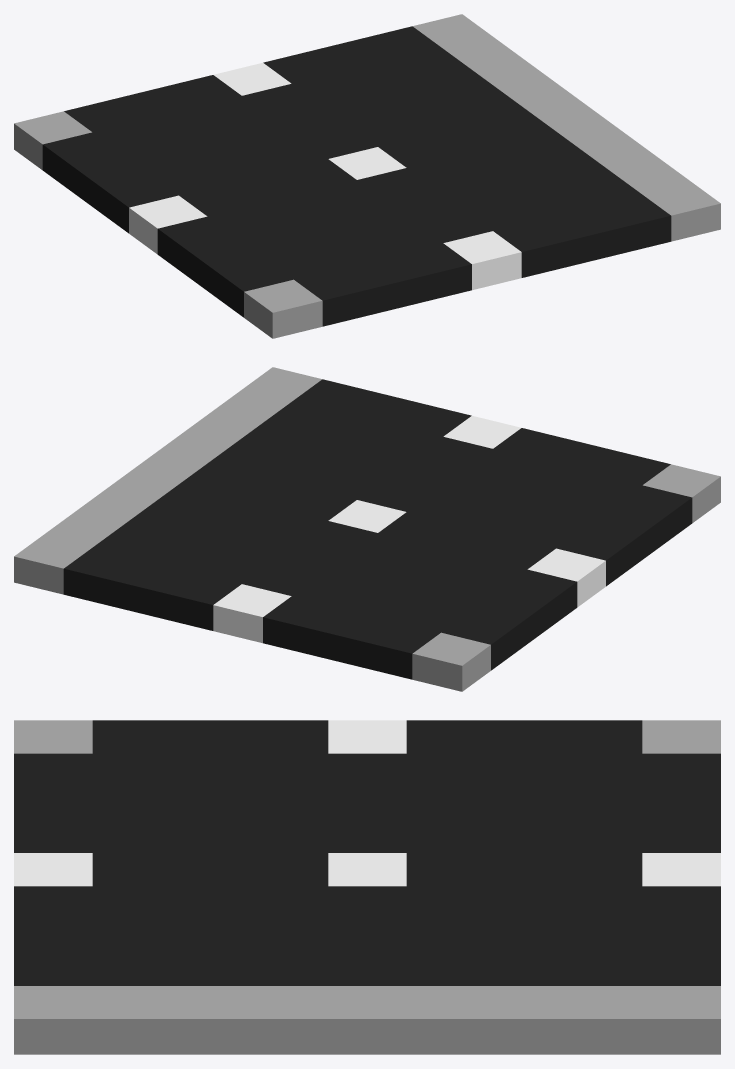
Rendered from road_3.obj.
3 renders of one model, top to bottom at view 1: azimuth 30°, elevation 25°; view 2: azimuth 150°, elevation 25°; view 3: azimuth 270°, elevation 25°, orthographic. The views are drawn at different scales.
Bounding box in the file's own units: 1.8 × 0.1 × 1.8.
1 material, 1 textured.
